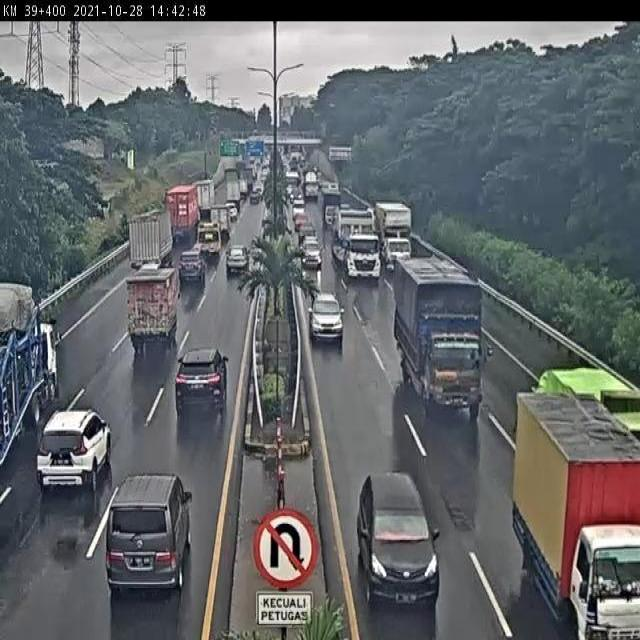big truck: (0, 276, 61, 473)
car: (356, 473, 441, 607), (103, 480, 190, 587), (32, 410, 112, 490), (175, 346, 230, 411), (310, 289, 348, 343), (300, 234, 325, 270), (179, 246, 204, 278), (226, 247, 250, 272)
mid truck: (194, 222, 222, 255)
truck-l-: (395, 256, 481, 416), (375, 200, 415, 272)
truck-m-: (125, 268, 178, 351), (129, 216, 173, 265)
truck-xl-: (331, 210, 381, 278)
